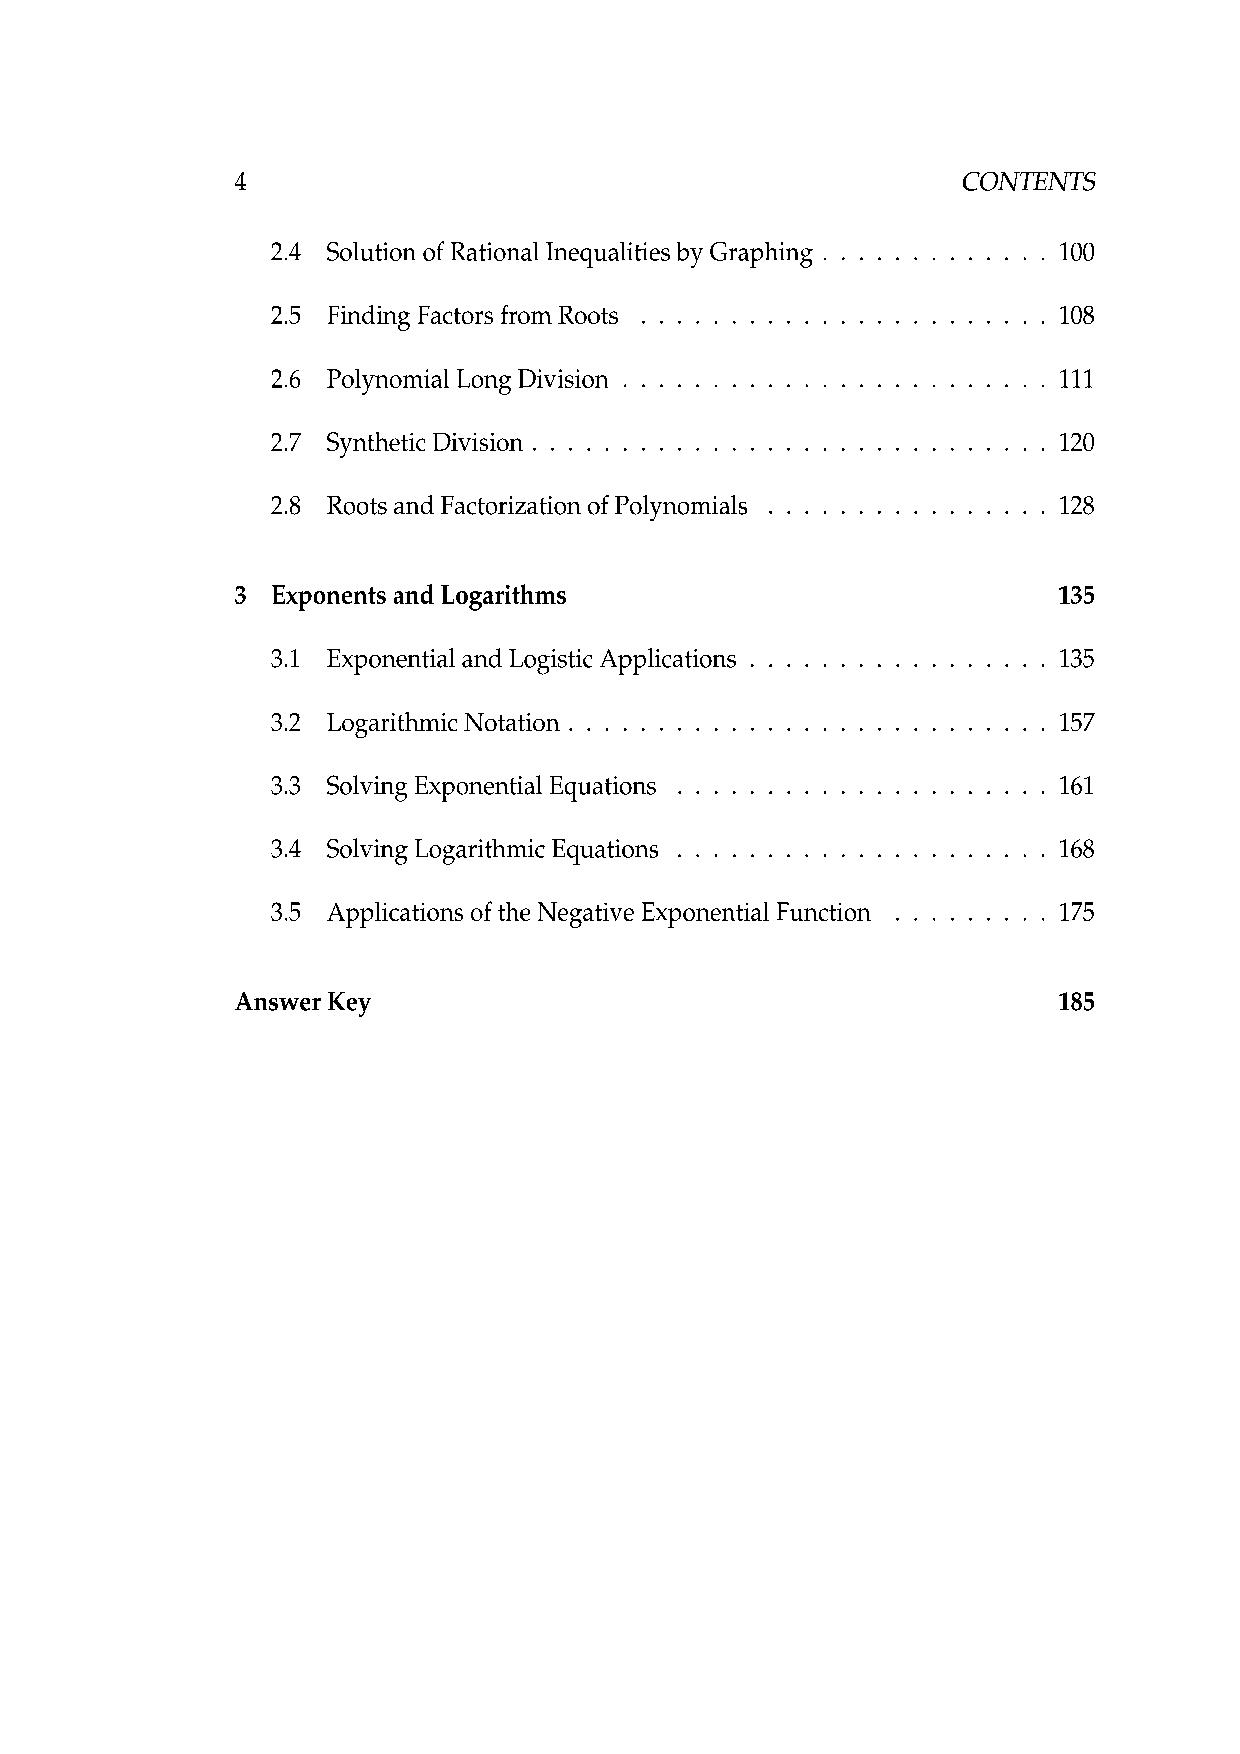TOC_chapter: (260, 225, 823, 274), (258, 888, 871, 927), (260, 480, 754, 525), (263, 637, 735, 683), (256, 293, 619, 340), (258, 827, 662, 866), (264, 360, 615, 403), (224, 569, 570, 611), (264, 770, 660, 804), (263, 705, 568, 738), (264, 432, 534, 454), (231, 985, 381, 1021)
TOC_pagenumber: (1052, 573, 1102, 616), (1053, 633, 1102, 674), (1052, 985, 1104, 1019), (1053, 894, 1102, 930), (1062, 229, 1096, 278), (1049, 299, 1100, 331), (1059, 827, 1100, 866), (1053, 766, 1096, 804), (1052, 429, 1096, 463), (1053, 487, 1096, 521), (1059, 706, 1096, 742), (1053, 360, 1095, 391)
chapter: (955, 162, 1098, 196)
